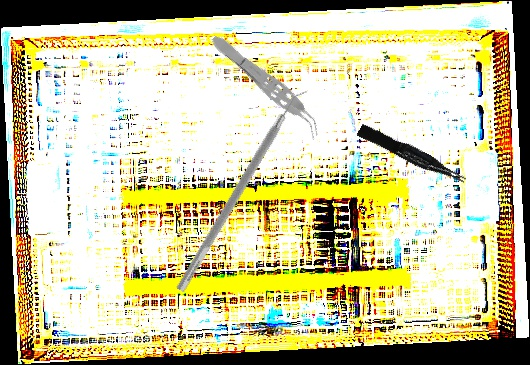Spatula Surgical: (175, 82, 312, 298)
Tissue Forceps: (205, 29, 329, 141), (356, 119, 468, 192)
